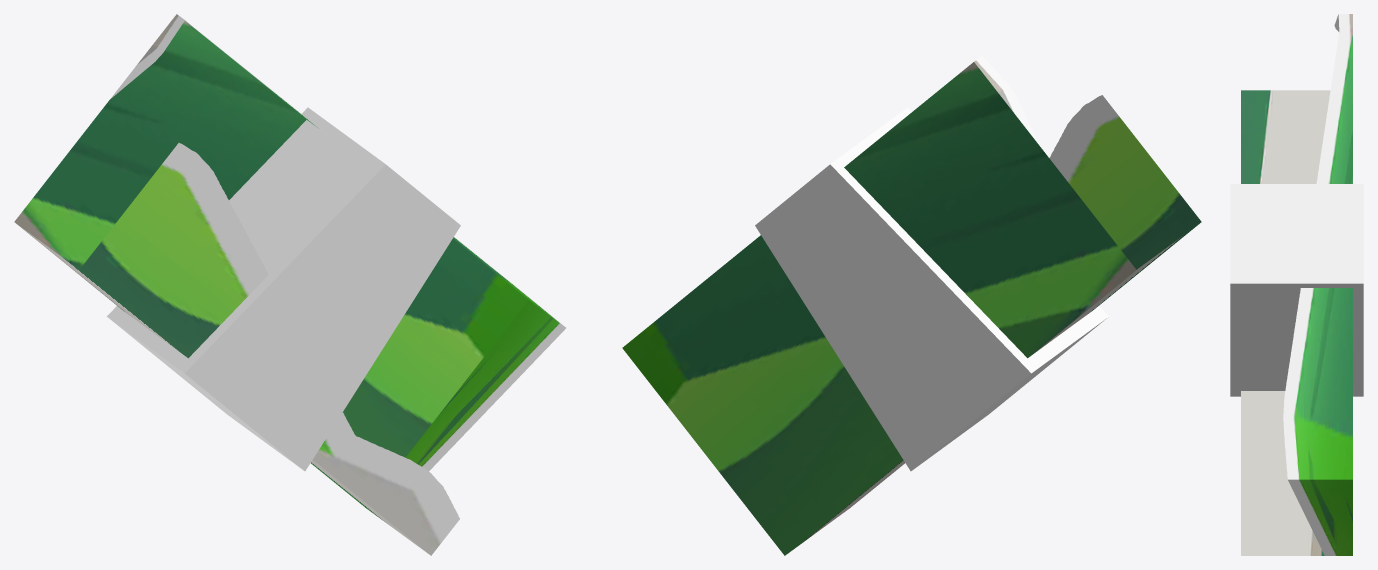
File: Collectable_Coin (2)_2.fbx
The picture shows the model from 3 angles, left to right: view 1: azimuth 30°, elevation 25°; view 2: azimuth 150°, elevation 25°; view 3: azimuth 270°, elevation 25°; orthographic projection. The views are drawn at different scales.
Parts seen in each view (by area): view 1: MoneyStack; view 2: MoneyStack; view 3: MoneyStack.
Part boxes in pixels (bbox=[...]): MoneyStack: bbox=[14, 14, 565, 555]; MoneyStack: bbox=[622, 55, 1201, 555]; MoneyStack: bbox=[1230, 14, 1363, 555].
Size of the model in its own units: 0.7284 by 0.7312 by 0.1909.
